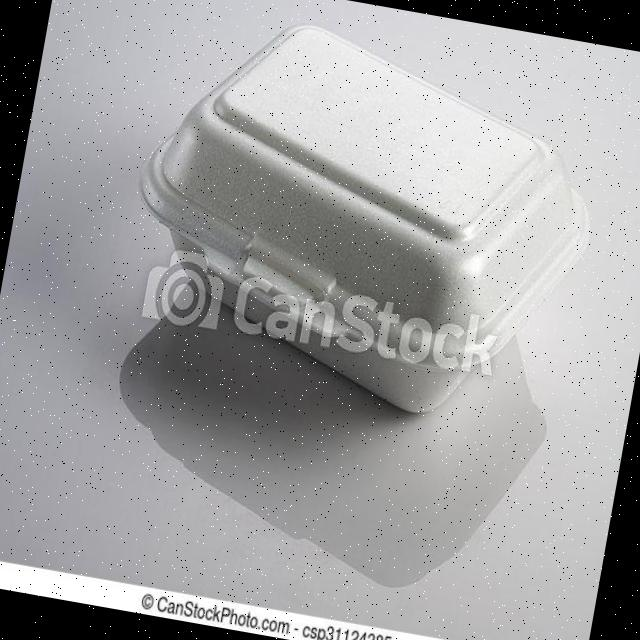styrofoam: (104, 0, 617, 439)
